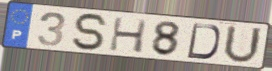3: (37, 11, 68, 47)
8: (150, 20, 182, 57)
D: (185, 22, 222, 61)
H: (108, 16, 150, 54)
S: (71, 12, 111, 52)
U: (221, 23, 264, 66)
